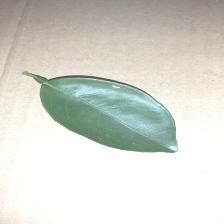healthy: (25, 72, 187, 158)
